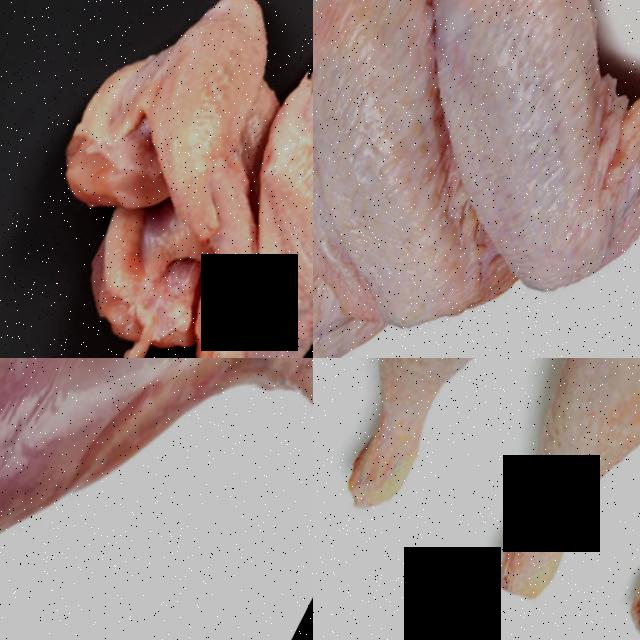chicken thigh: (0, 358, 313, 640), (445, 358, 640, 636), (313, 358, 578, 543)
chicken wing: (356, 0, 640, 340), (24, 0, 313, 311), (141, 0, 313, 358)
